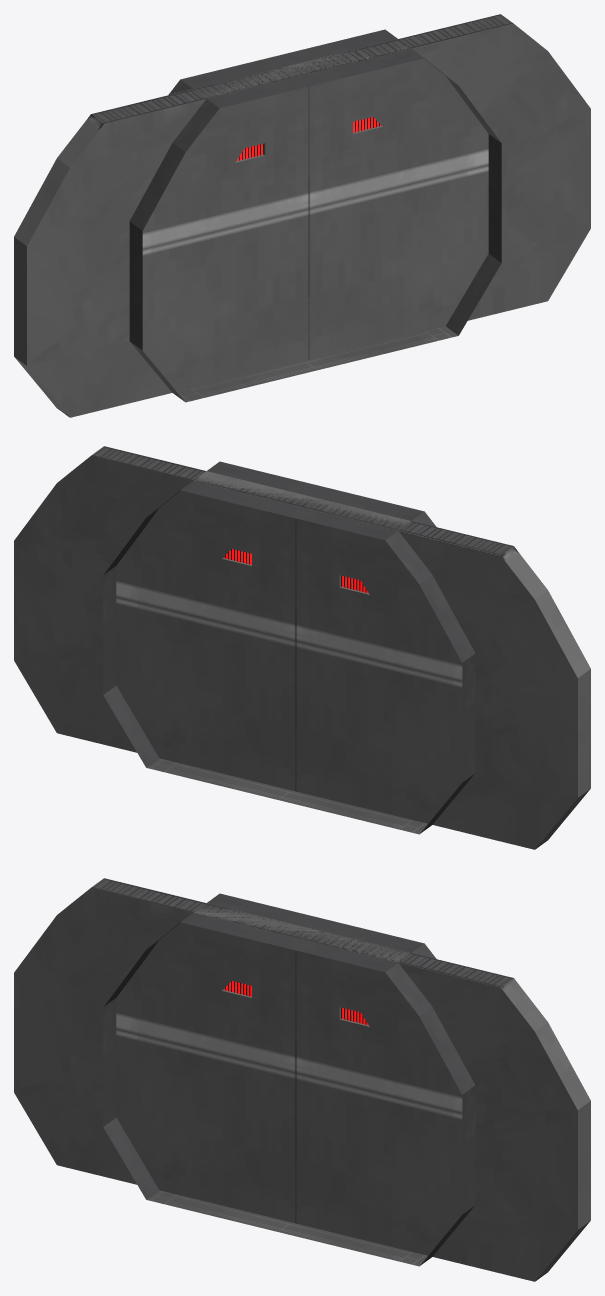
File: gate_locked.fbx
3 views of the same model, one above another, from view 1: azimuth 30°, elevation 25°; view 2: azimuth 150°, elevation 25°; view 3: azimuth 330°, elevation 25° (orthographic).
Visible parts, largest first — view 1: hallway_oct_gate; view 2: hallway_oct_gate; view 3: hallway_oct_gate.
Boxes of the visible parts, box(x1,y1,x2,y2) form: hallway_oct_gate: box(14, 14, 590, 417); hallway_oct_gate: box(14, 446, 590, 849); hallway_oct_gate: box(14, 878, 590, 1281).
Size of the model in its own units: 826 by 400 by 100.
1 material, 1 textured.
